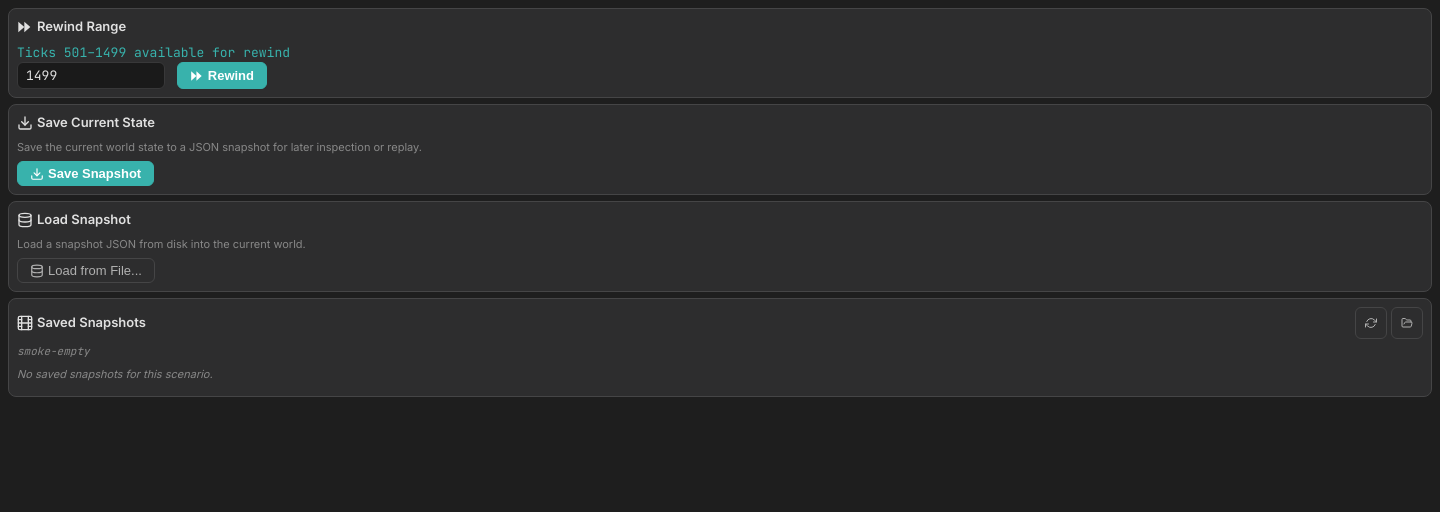
it: StatePanel › shows an error for targets outside the rewind buffer
The width and height of the screenshot is (1440, 512).
Replace the text in the number field named "Rewind target tick" with "100": (91, 76) [17,62,165,89]
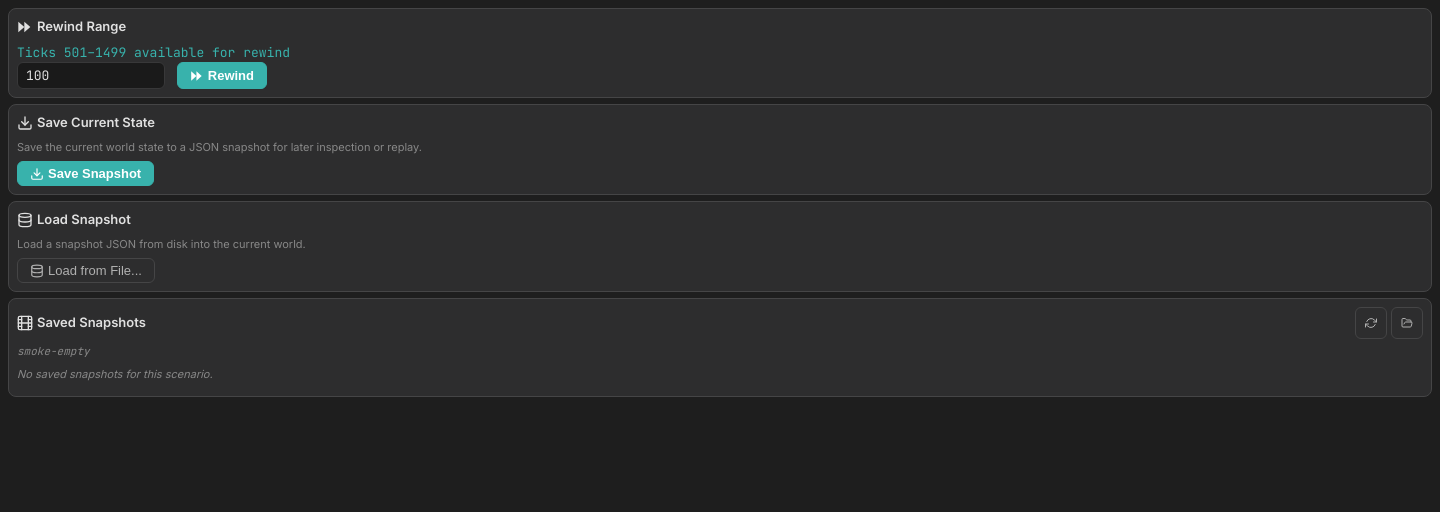
Click the button "Rewind": (222, 76) [177,62,267,89]
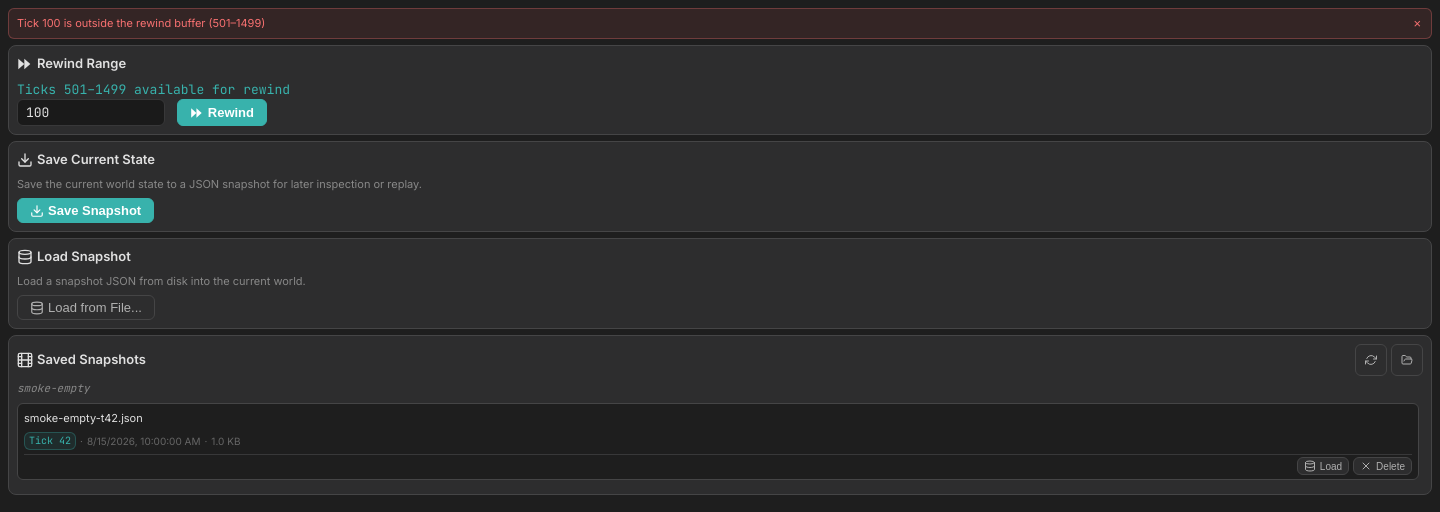
Expected: the text "Tick 100 is outside the rewind buffer (501–1499) ×" is shown, [8,8,1432,39]
